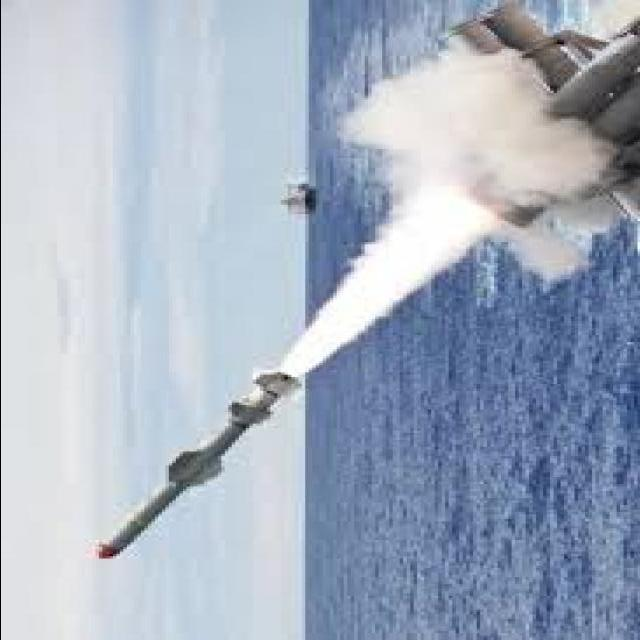missile: (84, 367, 297, 564)
